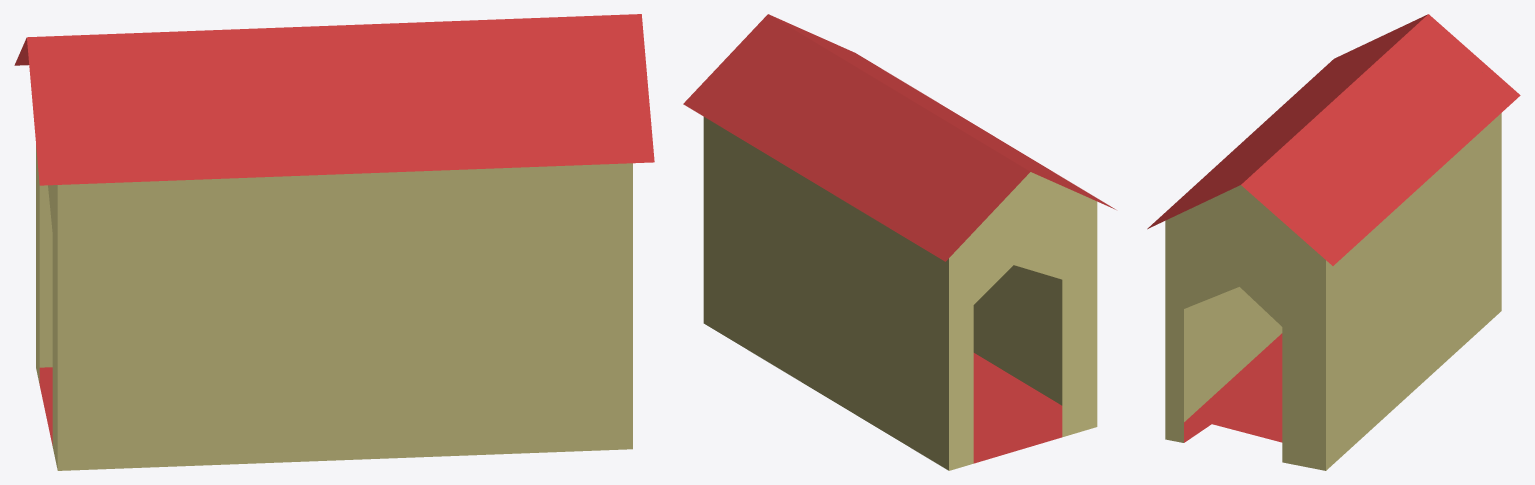
The picture shows the model from 3 angles, left to right: view 1: azimuth 30°, elevation 25°; view 2: azimuth 150°, elevation 25°; view 3: azimuth 270°, elevation 25°; orthographic projection. The views are drawn at different scales.
Size of the model in its own units: 25.55 by 19.48 by 15.84.
